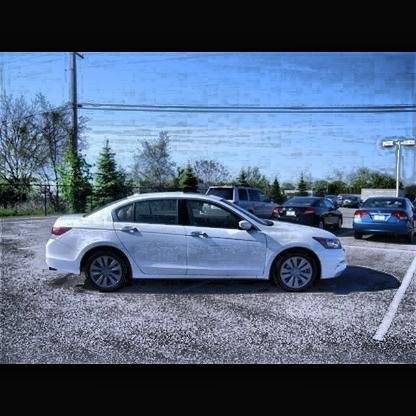Honda Accord Sedan 2012: (48, 195, 347, 293)
